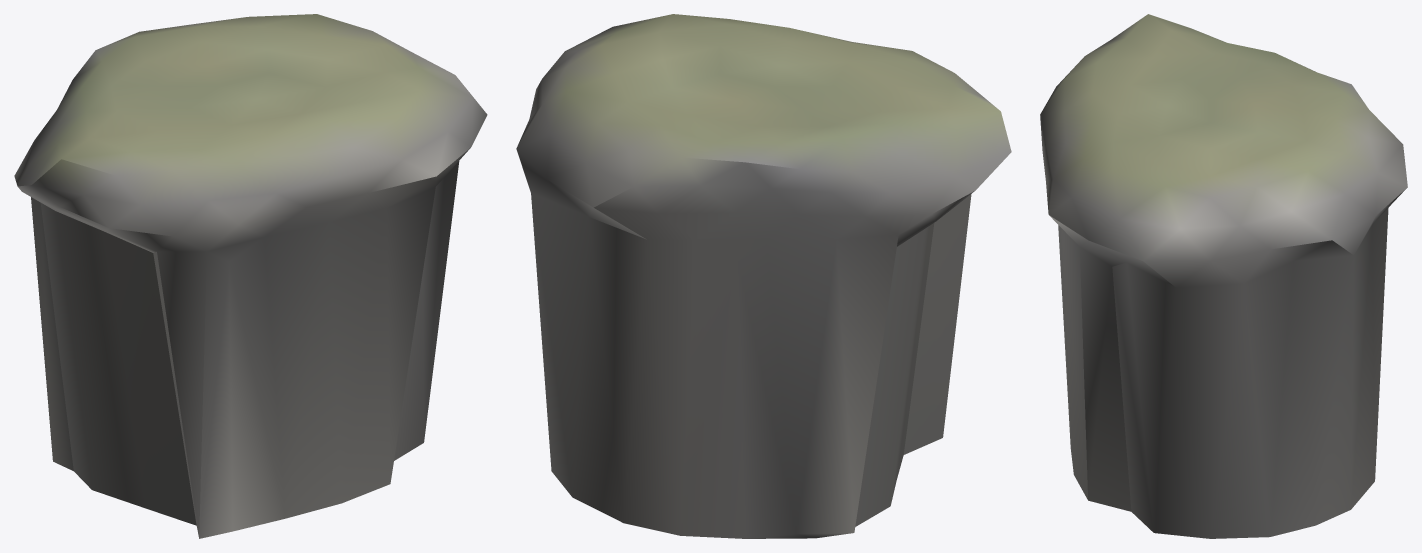
File: Mtn_StairSlab_B.fbx
The picture shows the model from 3 angles, left to right: view 1: azimuth 30°, elevation 25°; view 2: azimuth 150°, elevation 25°; view 3: azimuth 270°, elevation 25°; orthographic projection. The views are drawn at different scales.
Visible parts, largest first — view 1: Mtn_StairSlab_B; view 2: Mtn_StairSlab_B; view 3: Mtn_StairSlab_B.
Boxes of the visible parts, bbox=[...] form: Mtn_StairSlab_B: bbox=[14, 14, 487, 538]; Mtn_StairSlab_B: bbox=[516, 14, 1011, 538]; Mtn_StairSlab_B: bbox=[1040, 14, 1407, 538].
Size of the model in its own units: 5.62 by 4.8 by 4.3.
